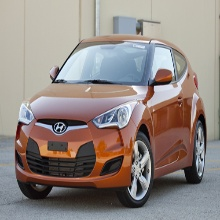no damage: (14, 34, 207, 208)
